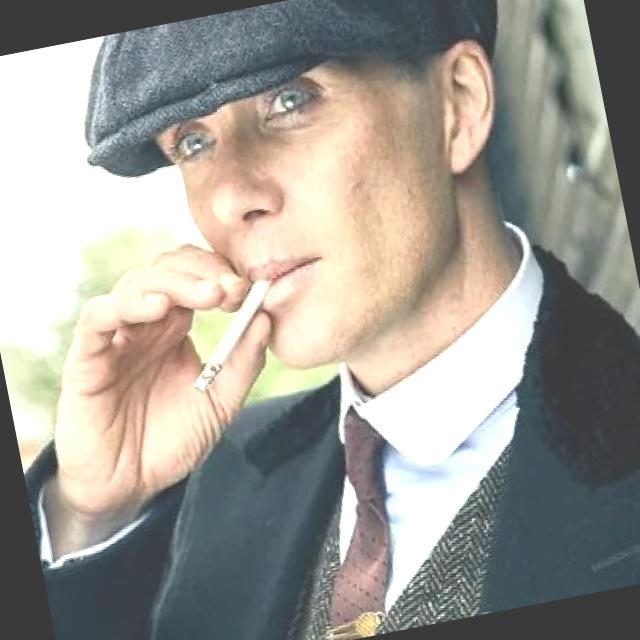smoke: (173, 272, 298, 402)
